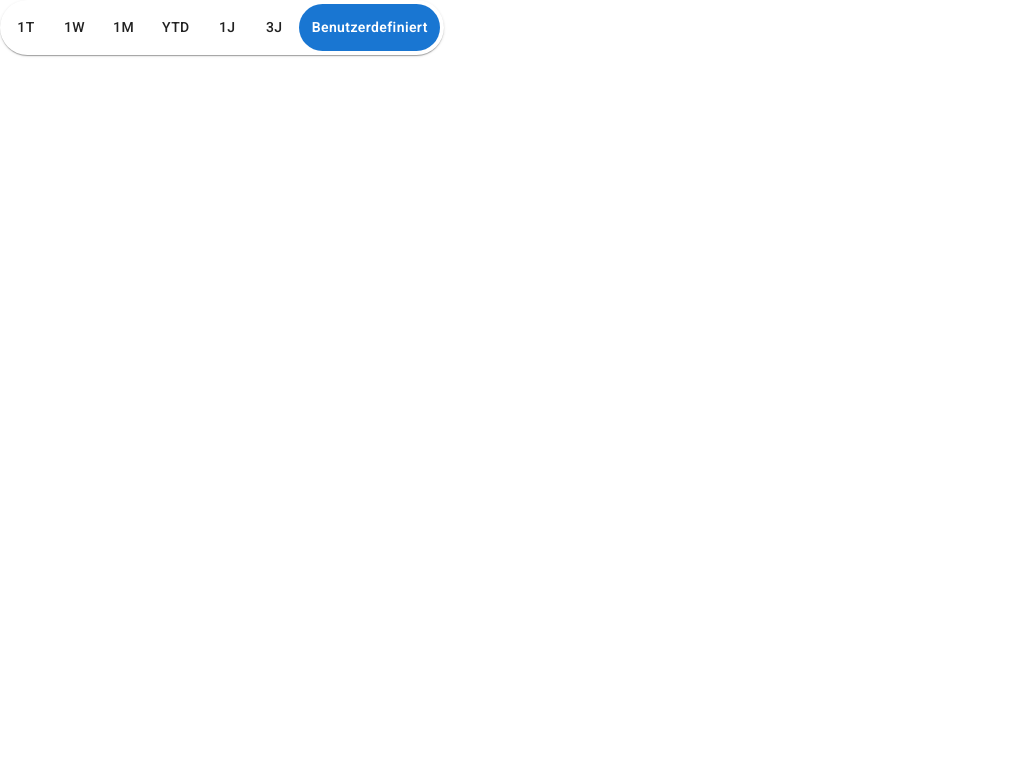
Scenario: PeriodSelector › blocks an invalid range with a message and saves nothing
Click the button "Benutzerdefiniert": (369,27) [299,4,440,50]
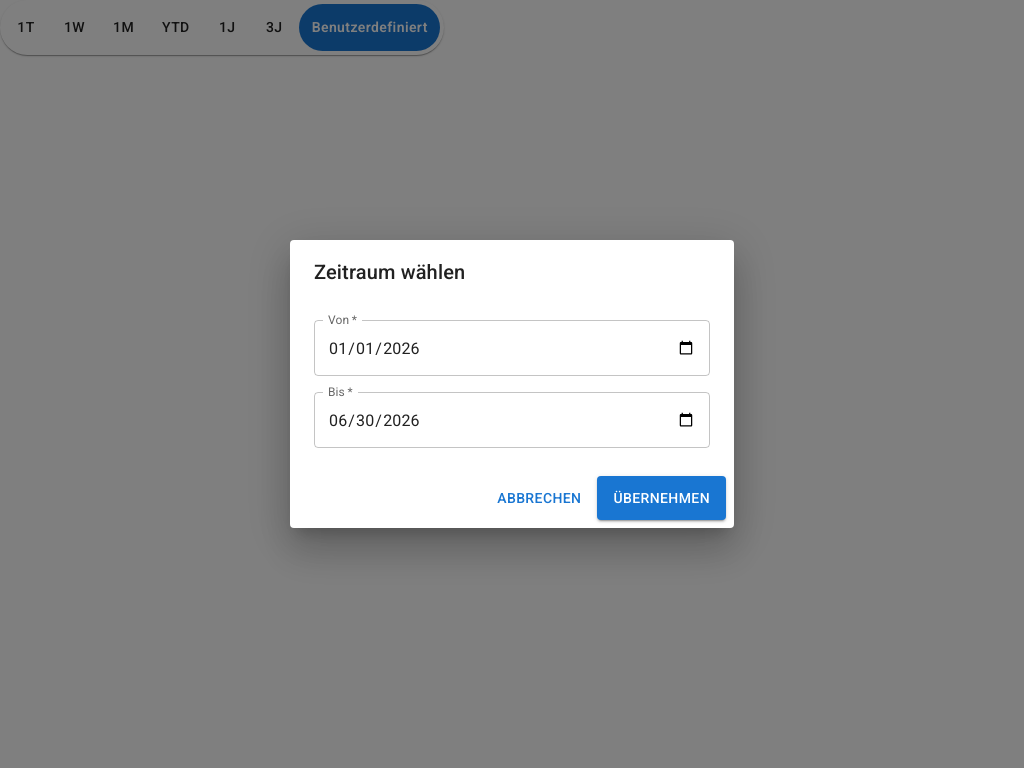
Check: the date field labelled "Von *" holds "2026-01-01"
In the date field labelled "Von *": (512,348) [314,320,710,376], type "2026-07-01"
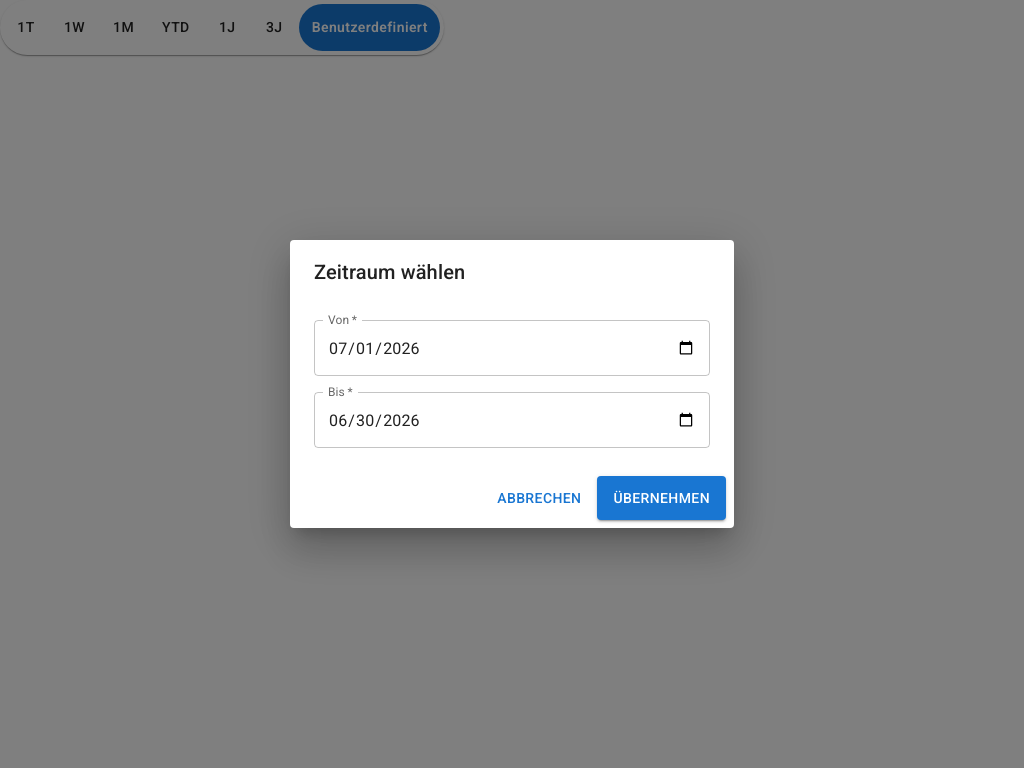
Click the button "Übernehmen": (662,498) [597,476,726,520]
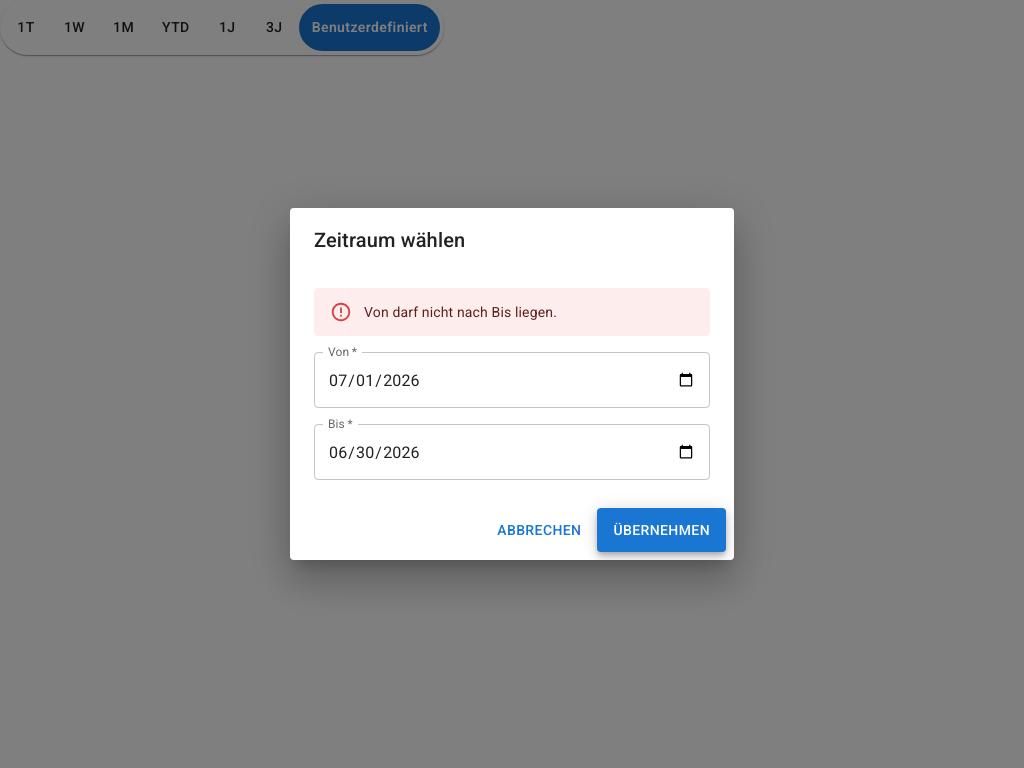
Check: the message reads "Von darf nicht nach Bis liegen.", box [364,304,557,320]
